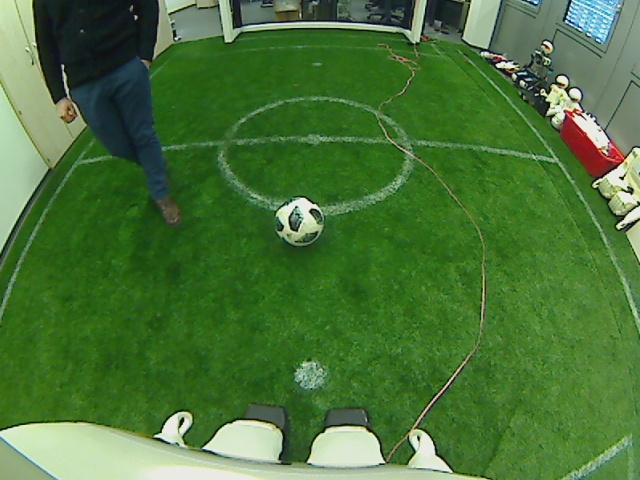ball: (273, 196, 325, 245)
